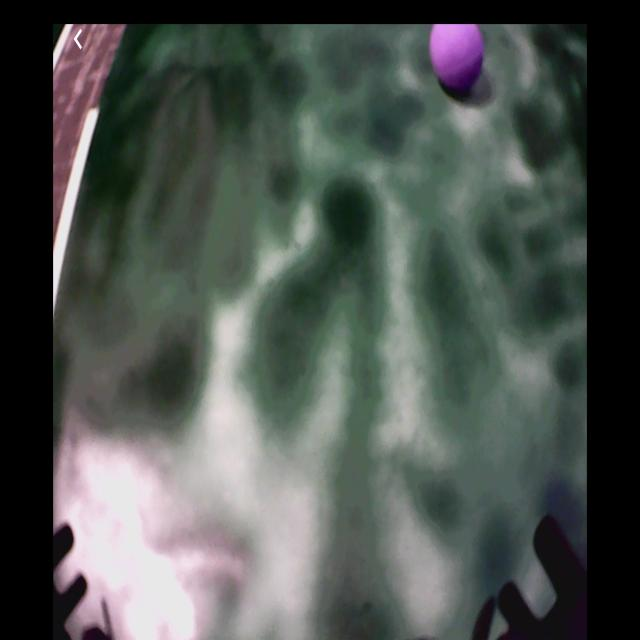ball: (432, 24, 484, 90)
